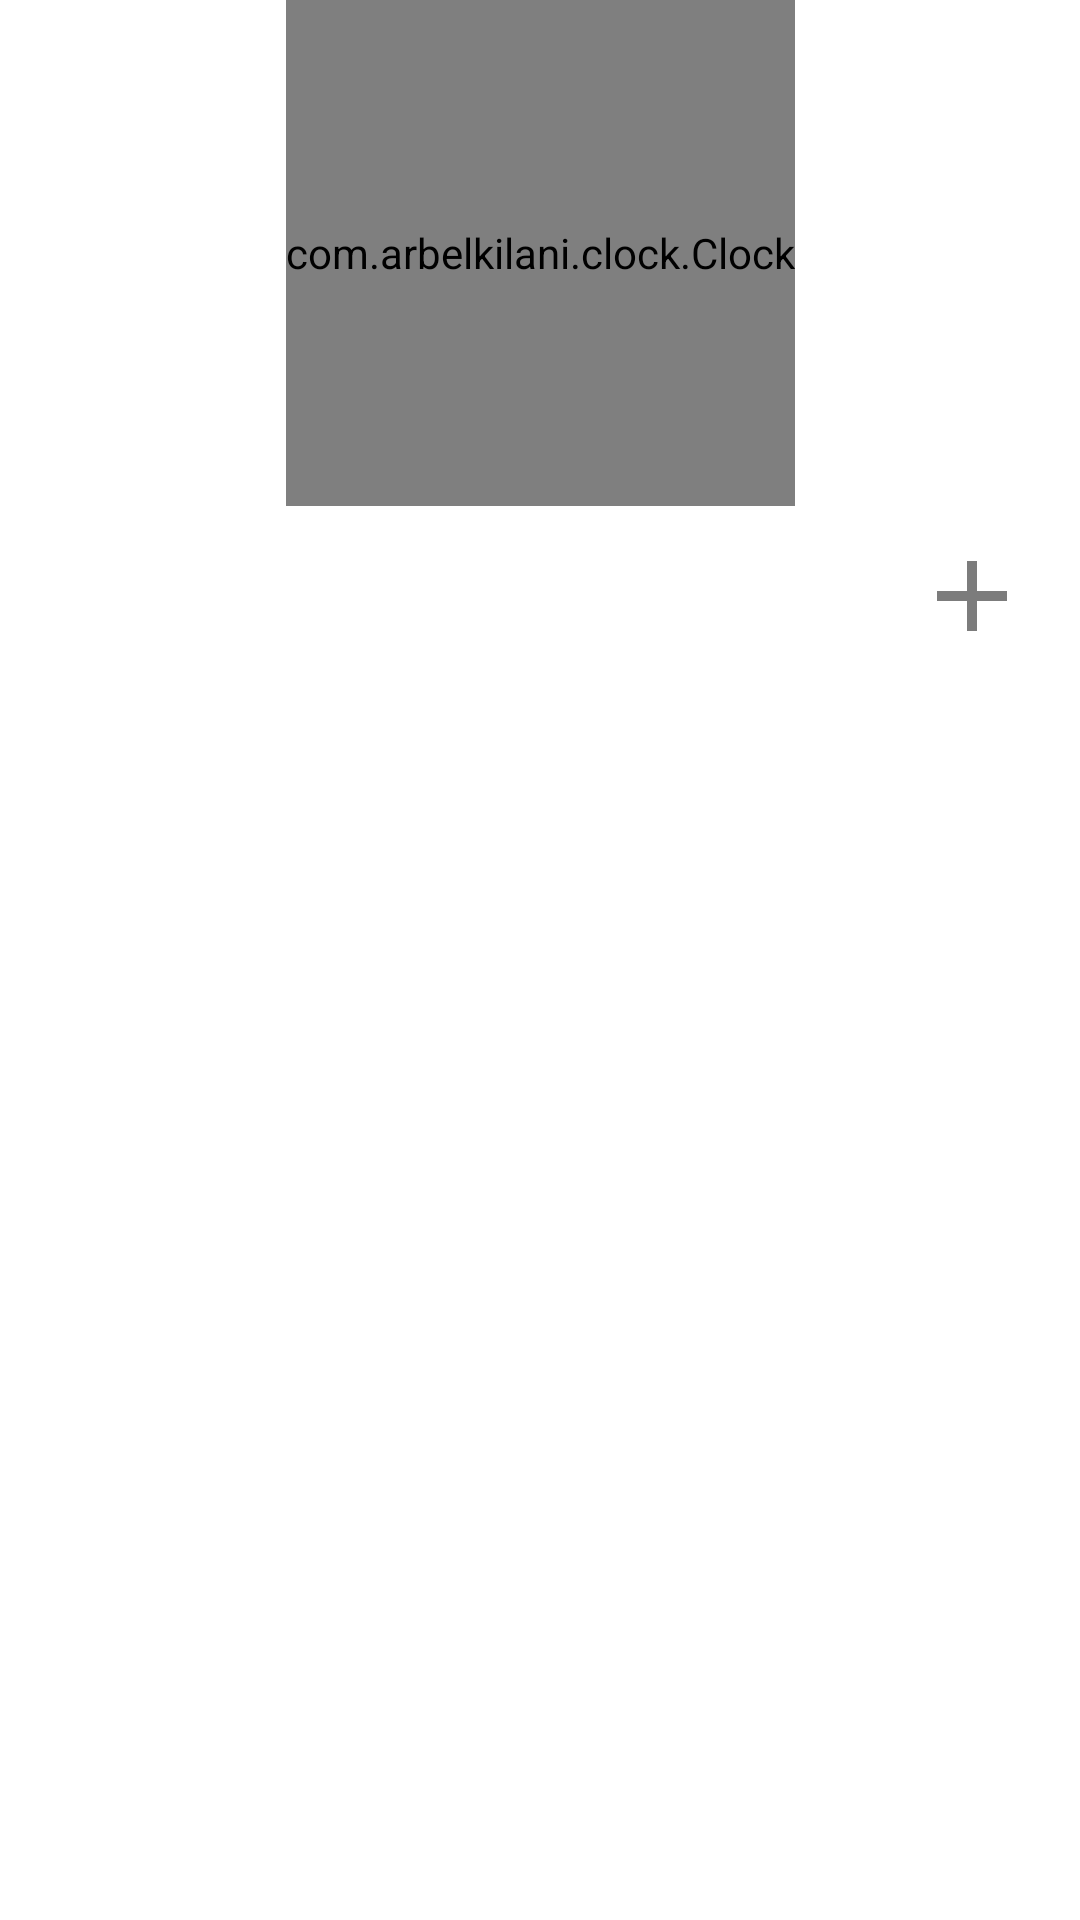

Icon bounding boxes for this 1080w x 1920h phone screenshot, format (x1, y1, x2, y2):
add: (937, 561, 1007, 631)
